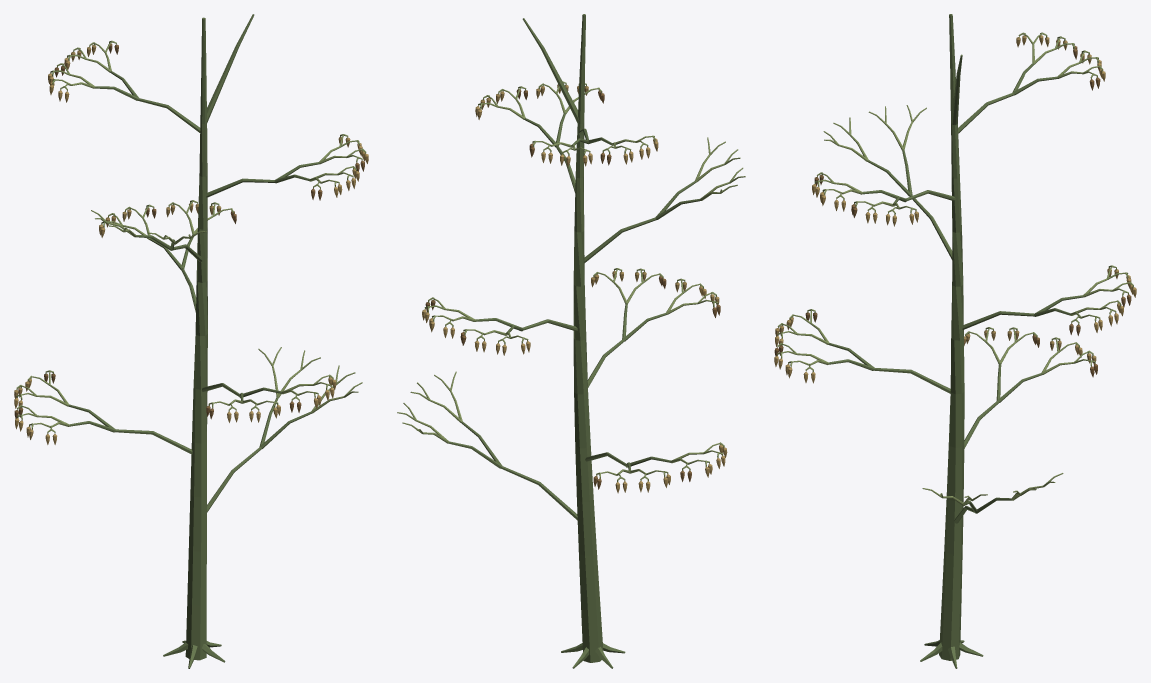
The model's file is psilophyton.glb.
3 views of the same model, side by side, from view 1: azimuth 30°, elevation 25°; view 2: azimuth 150°, elevation 25°; view 3: azimuth 270°, elevation 25° (orthographic).
Visible parts, largest first — view 1: dominant-naked-axis-dichotomized-sprays-paired-sporangia; view 2: dominant-naked-axis-dichotomized-sprays-paired-sporangia; view 3: dominant-naked-axis-dichotomized-sprays-paired-sporangia.
Part boxes in pixels (x1,y1,x2,y2): dominant-naked-axis-dichotomized-sprays-paired-sporangia: [14, 14, 368, 668]; dominant-naked-axis-dichotomized-sprays-paired-sporangia: [397, 14, 745, 668]; dominant-naked-axis-dichotomized-sprays-paired-sporangia: [774, 14, 1136, 668].
Size of the model in its own units: 0.3744 by 0.7206 by 0.3662.
